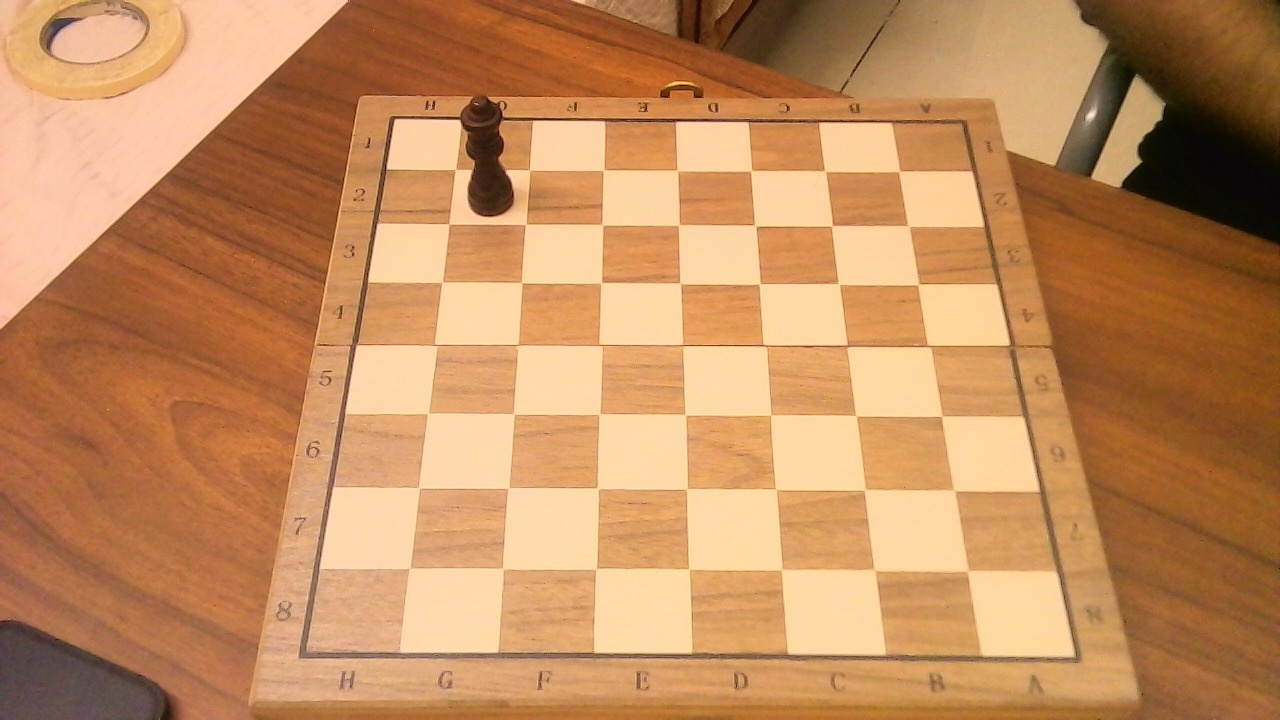q: (457, 82, 524, 220)
